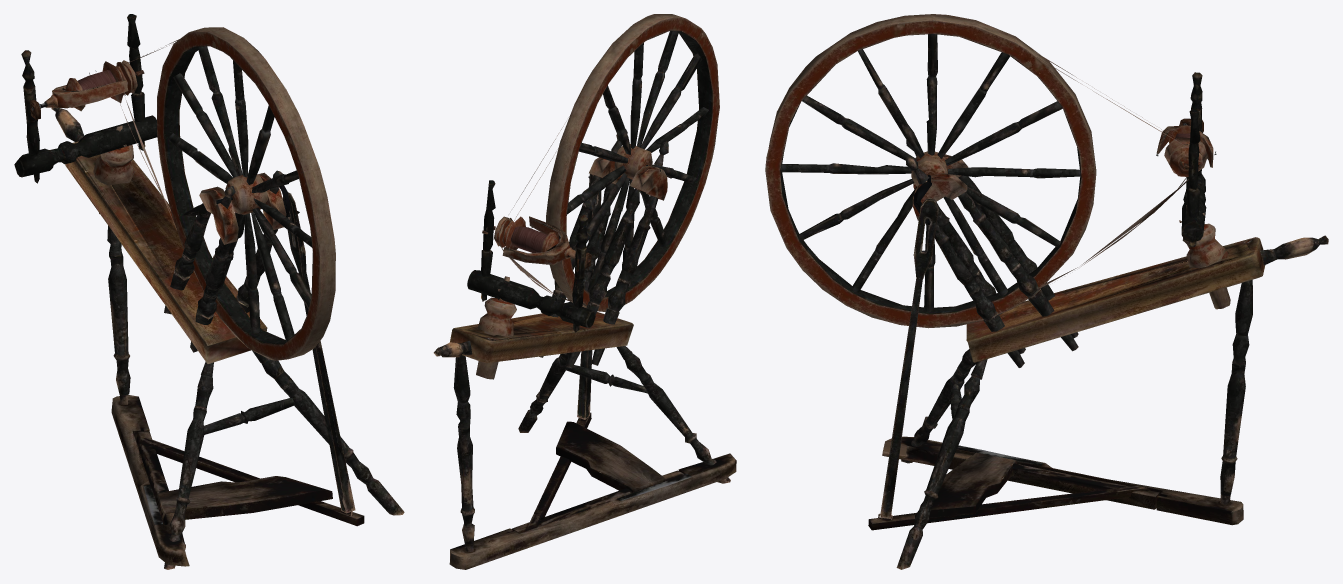
File: spinning_wheel_01.glb
3 views of the same model, side by side, from view 1: azimuth 30°, elevation 25°; view 2: azimuth 150°, elevation 25°; view 3: azimuth 270°, elevation 25° (orthographic). The views are drawn at different scales.
Parts seen in each view (by area): view 1: spinning_wheel_01; view 2: spinning_wheel_01; view 3: spinning_wheel_01.
Boxes of the visible parts, x1=… form: spinning_wheel_01: x1=14, y1=14, x2=404, y2=569; spinning_wheel_01: x1=433, y1=14, x2=736, y2=569; spinning_wheel_01: x1=765, y1=14, x2=1328, y2=569.
Size of the model in its own units: 0.4893 by 0.9656 by 1.02.
Materials: 1 (1 with a texture image).
